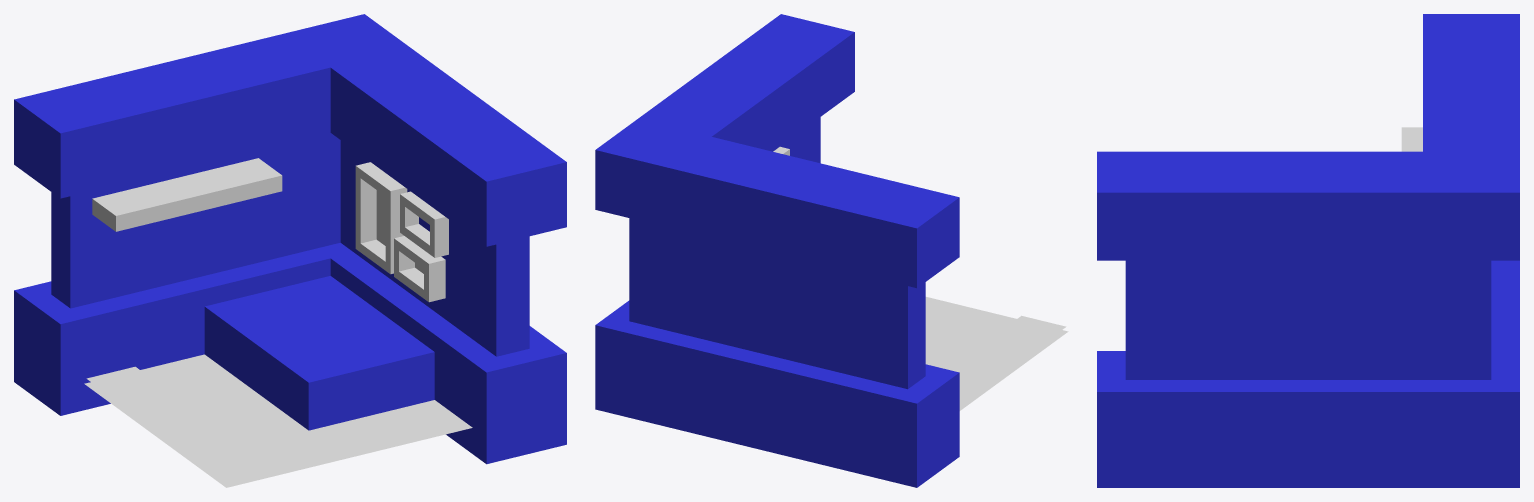
3 views of the same model, side by side, from view 1: azimuth 30°, elevation 25°; view 2: azimuth 150°, elevation 25°; view 3: azimuth 270°, elevation 25° (orthographic). The views are drawn at different scales.
Visible parts, largest first — view 1: Cube, Plane, Cube.001, Cube.002, Plane.001; view 2: Cube, Plane, Plane.001; view 3: Cube, Cube.002.
Boxes of the visible parts, bbox=[...] form: Cube: bbox=[14, 14, 566, 464]; Plane: bbox=[84, 354, 472, 487]; Cube.001: bbox=[355, 162, 448, 302]; Cube.002: bbox=[92, 158, 282, 231]; Plane.001: bbox=[86, 366, 277, 482]; Cube: bbox=[595, 14, 959, 487]; Plane: bbox=[925, 297, 1068, 410]; Plane.001: bbox=[948, 315, 1066, 404]; Cube: bbox=[1097, 14, 1519, 487]; Cube.002: bbox=[1401, 127, 1422, 151].
Size of the model in its own units: 2.6 by 2 by 2.6.
